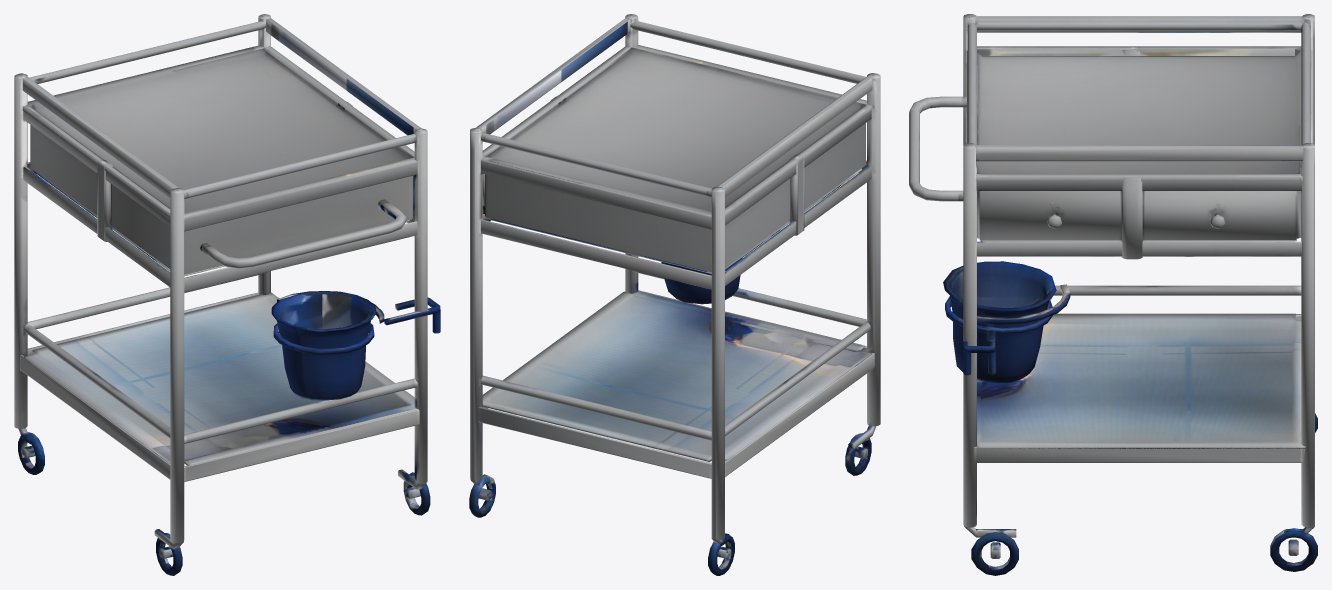
File: medicalcart.fbx
3 renders of one model, left to right at view 1: azimuth 30°, elevation 25°; view 2: azimuth 150°, elevation 25°; view 3: azimuth 270°, elevation 25°, orthographic. The views are drawn at different scales.
Visible parts, largest first — view 1: tripo_node_7ae00024; view 2: tripo_node_7ae00024; view 3: tripo_node_7ae00024.
Part boxes in pixels (box(x1,y1,x2,y2)): tripo_node_7ae00024: box(14, 14, 440, 575); tripo_node_7ae00024: box(469, 14, 880, 575); tripo_node_7ae00024: box(909, 14, 1317, 575).
Size of the model in its own units: 66.49 by 93.45 by 81.24.
1 material, 1 textured.
